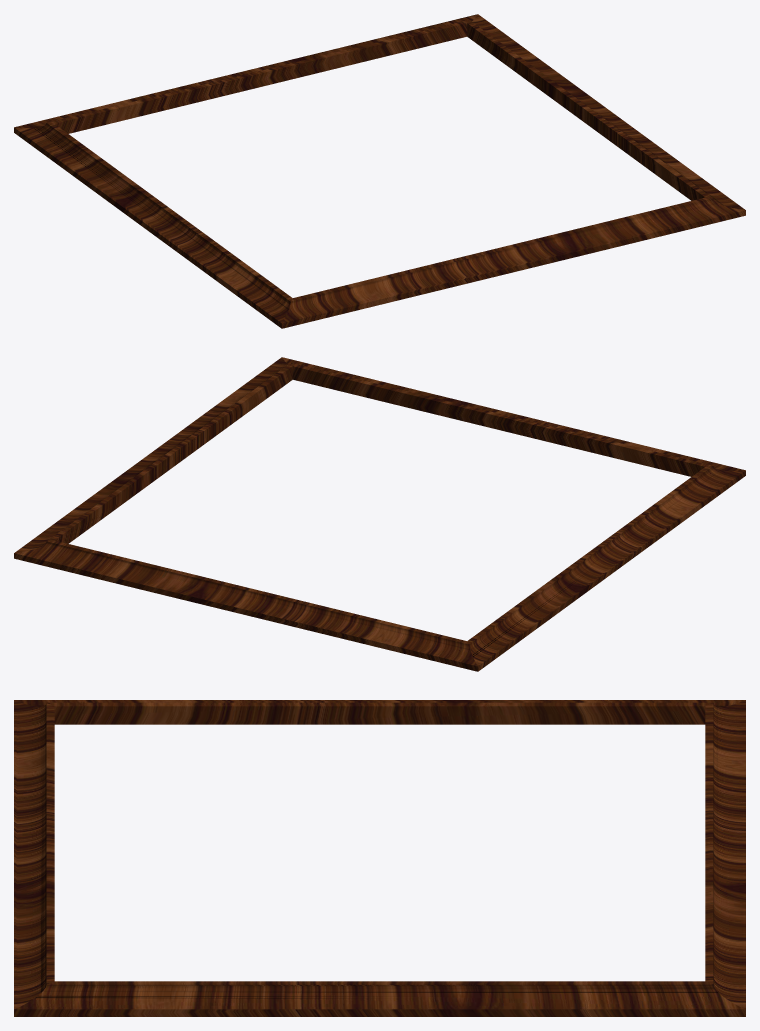
The model's file is board-border.obj.
3 views of the same model, one above another, from view 1: azimuth 30°, elevation 25°; view 2: azimuth 150°, elevation 25°; view 3: azimuth 270°, elevation 25° (orthographic). The views are drawn at different scales.
Parts seen in each view (by area): view 1: Board_Cube.003; view 2: Board_Cube.003; view 3: Board_Cube.003.
Boxes of the visible parts, left/top/right/bottom form: Board_Cube.003: left=14, top=14, right=745, bottom=328; Board_Cube.003: left=14, top=357, right=745, bottom=671; Board_Cube.003: left=14, top=700, right=745, bottom=1016.
Bounding box in the file's own units: 18 × 0.5 × 18.
